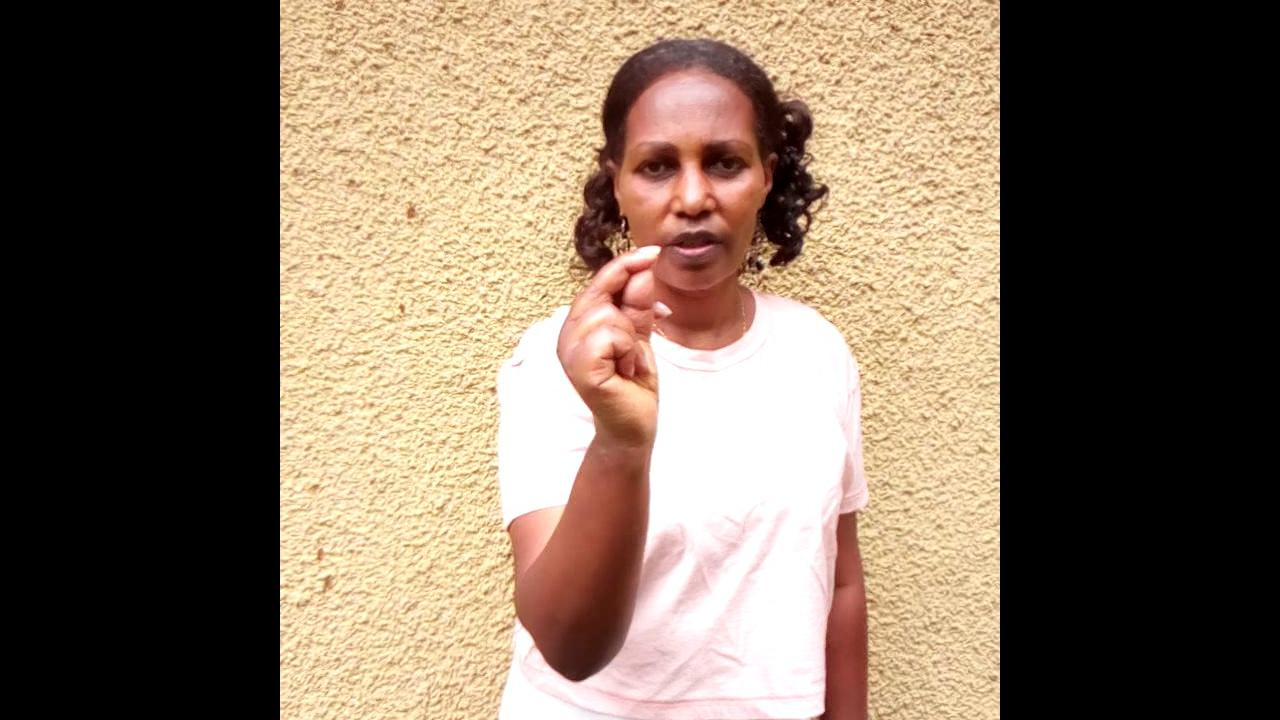CHE: (552, 244, 666, 557)
